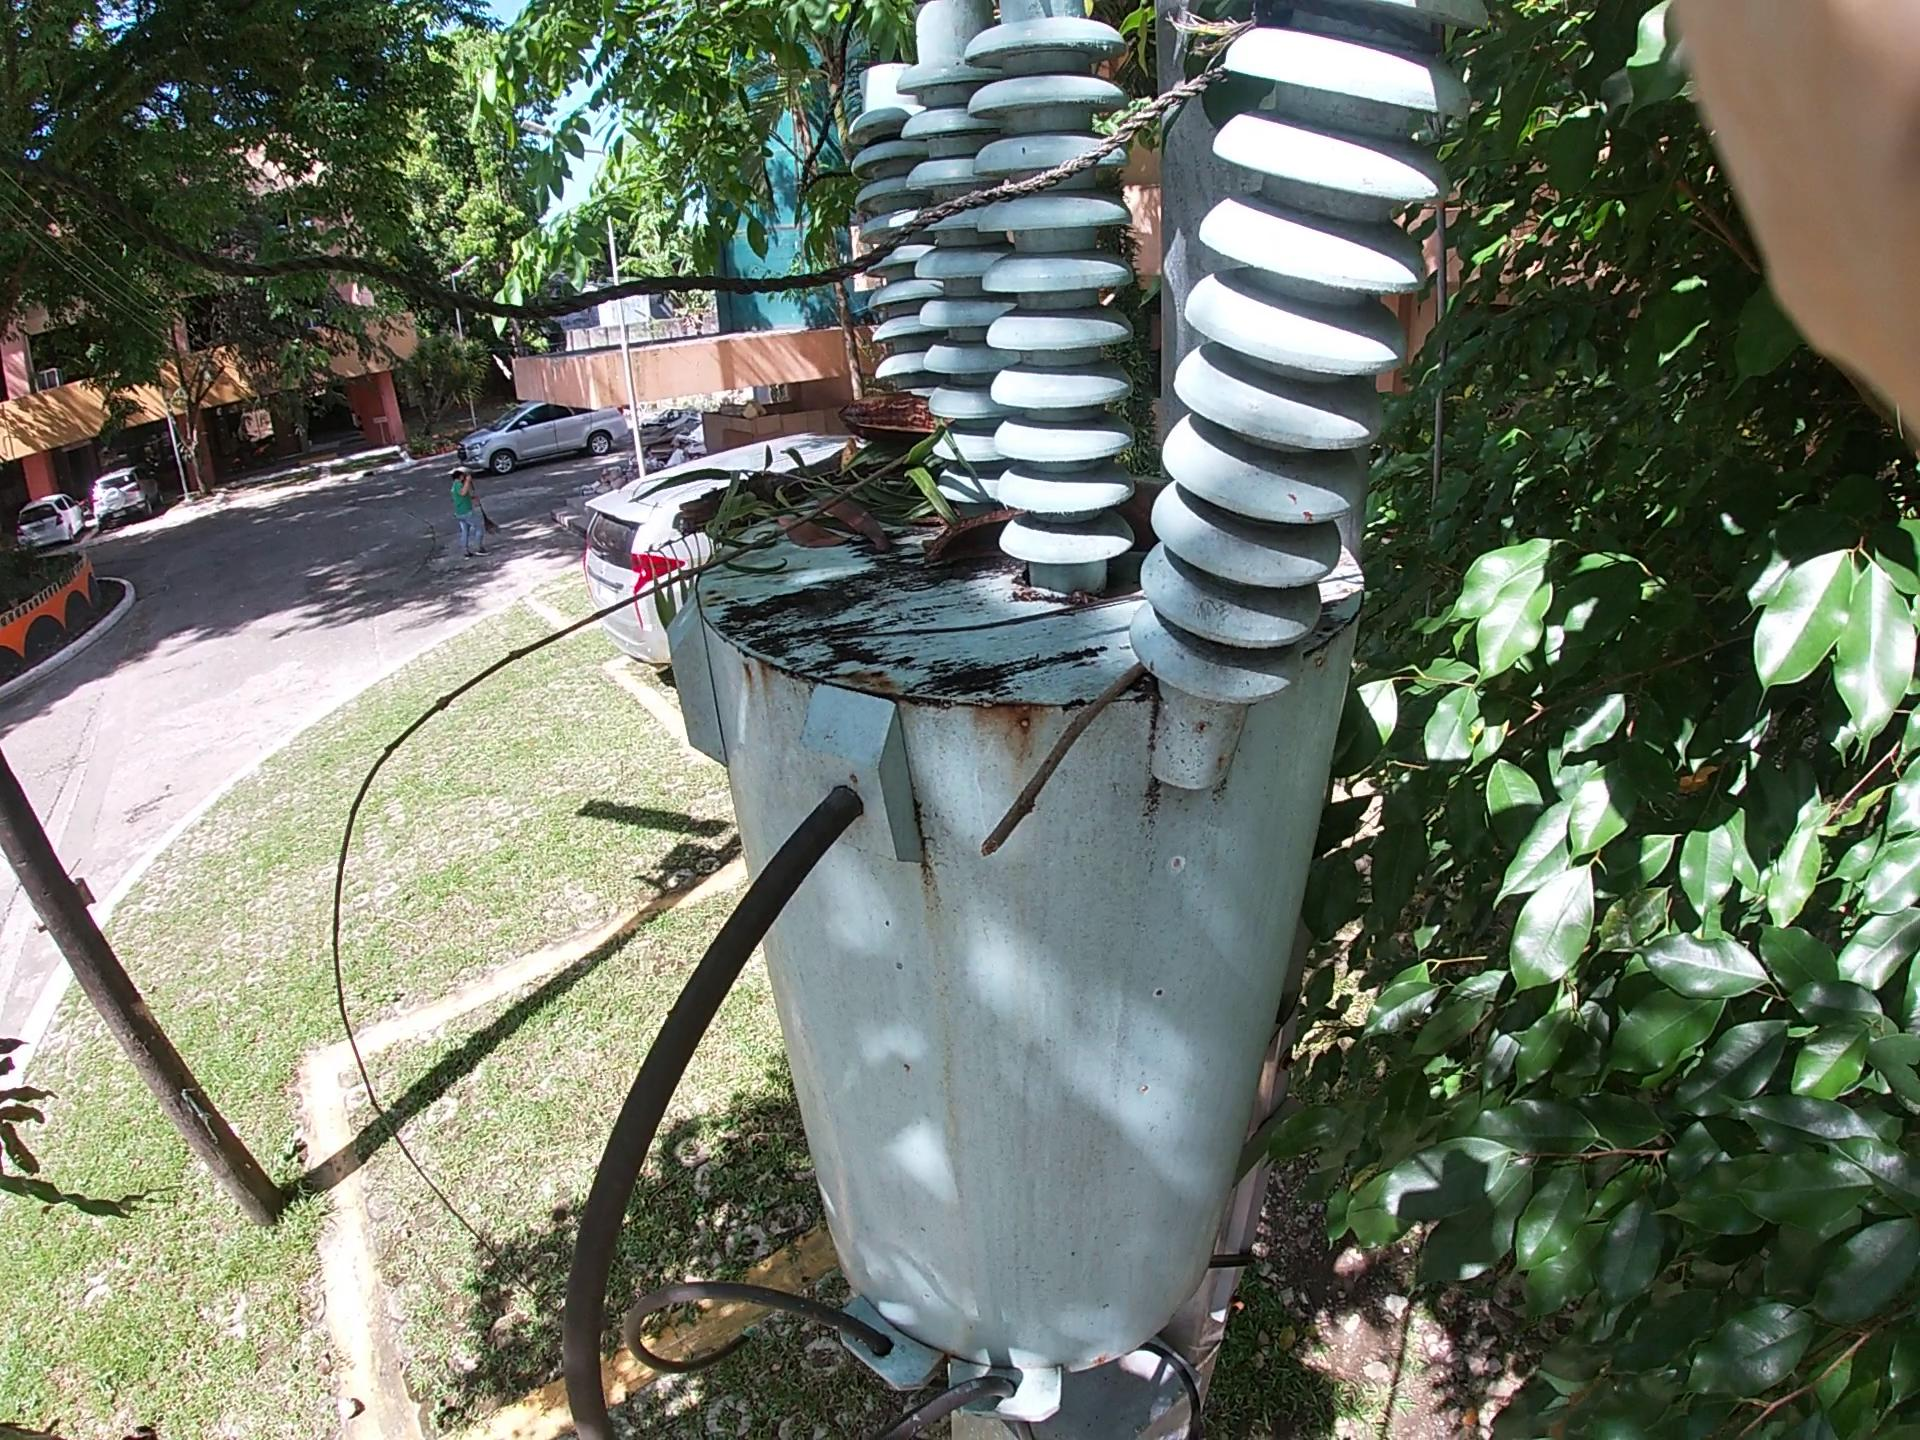branch with leaves: (714, 271, 981, 554)
leaf: (804, 489, 865, 607)
tree branch: (434, 383, 930, 914), (736, 570, 1228, 635), (1039, 576, 1137, 824)
